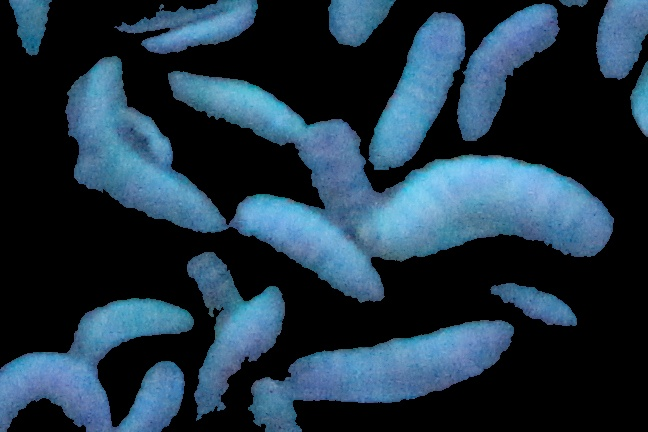larvae: (62, 54, 220, 230), (363, 155, 614, 259), (282, 319, 512, 404), (230, 197, 389, 304), (370, 12, 464, 168), (457, 6, 559, 138), (192, 287, 284, 421), (167, 69, 301, 142), (1, 354, 112, 429), (55, 301, 194, 360), (296, 120, 377, 217), (140, 1, 262, 60), (115, 362, 183, 432), (492, 278, 579, 331), (589, 1, 648, 79), (319, 1, 393, 47)
